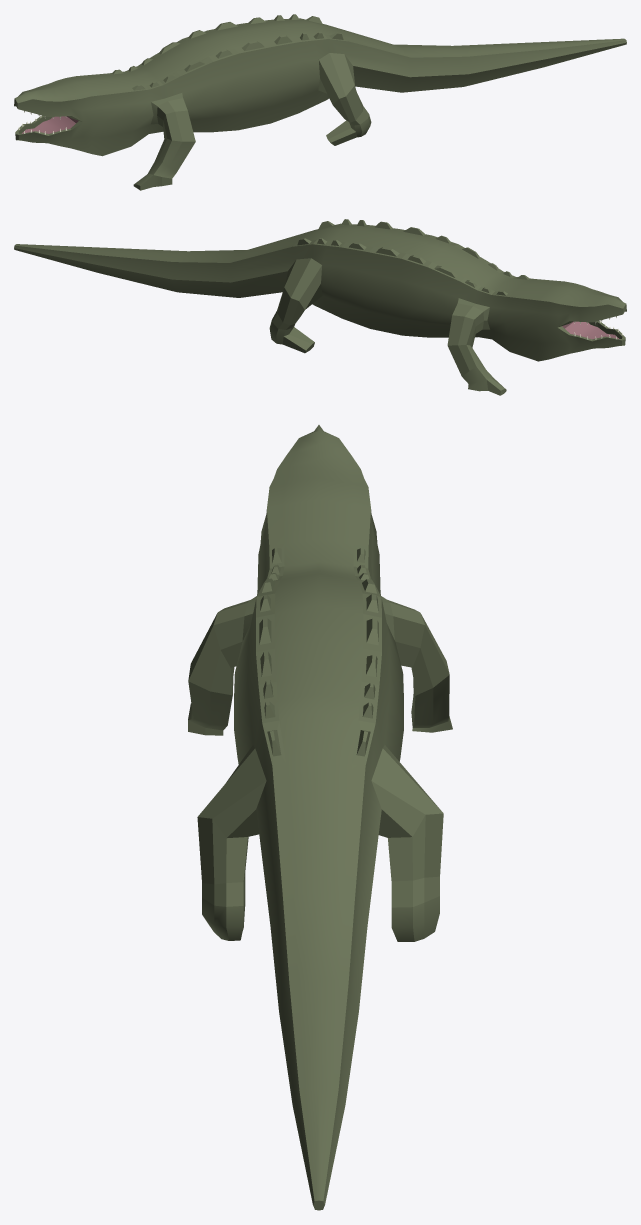
Rendered from Crocodile.fbx.
The picture shows the model from 3 angles, top to bottom: view 1: azimuth 30°, elevation 25°; view 2: azimuth 150°, elevation 25°; view 3: azimuth 270°, elevation 25°; orthographic projection. The views are drawn at different scales.
Parts seen in each view (by area): view 1: Crocodile; view 2: Crocodile; view 3: Crocodile.
Boxes of the visible parts, box(x1,y1,x2,y2) form: Crocodile: box(14, 14, 626, 190); Crocodile: box(14, 219, 626, 395); Crocodile: box(188, 425, 452, 1210).
Bounding box in the file's own units: 10.79 × 1.9 × 2.03.
